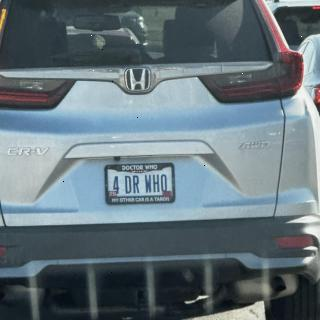license: (106, 164, 177, 206)
